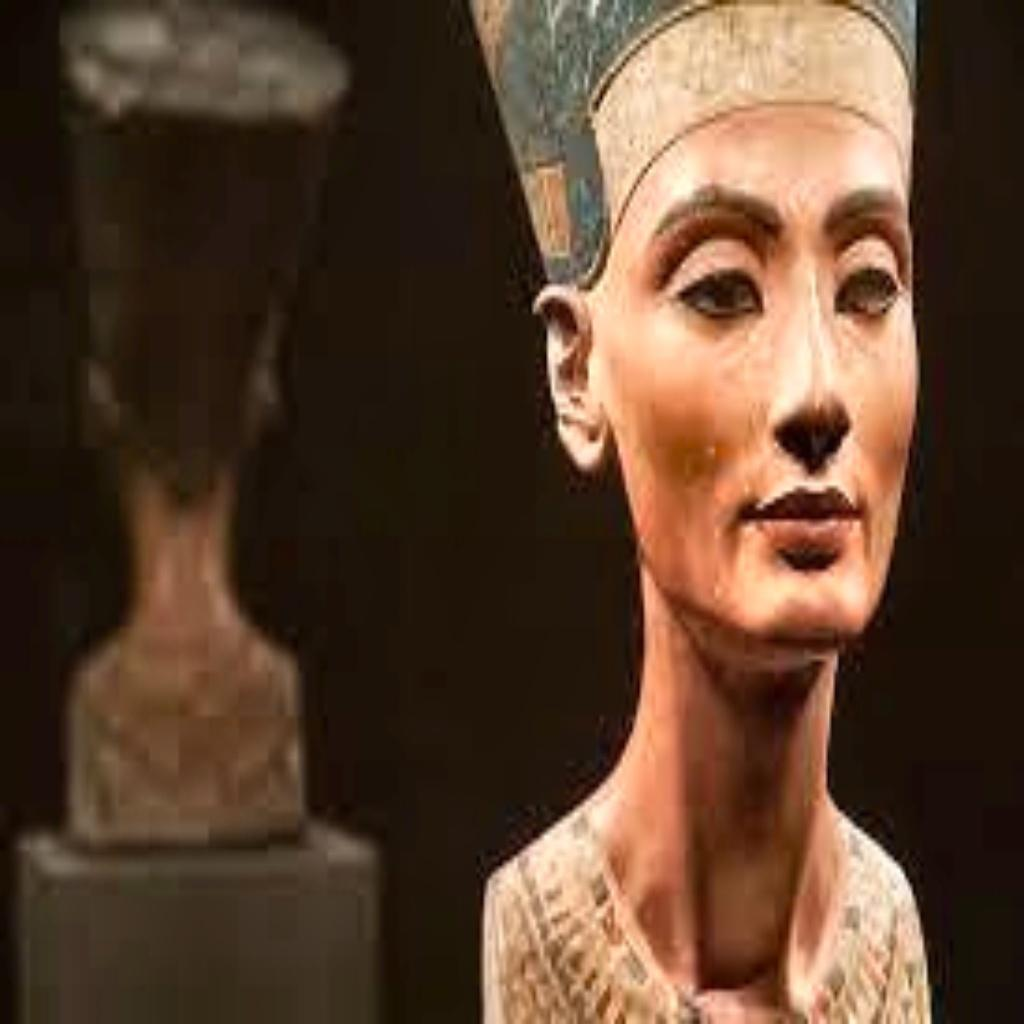Nefertiti: (462, 0, 934, 1024)
